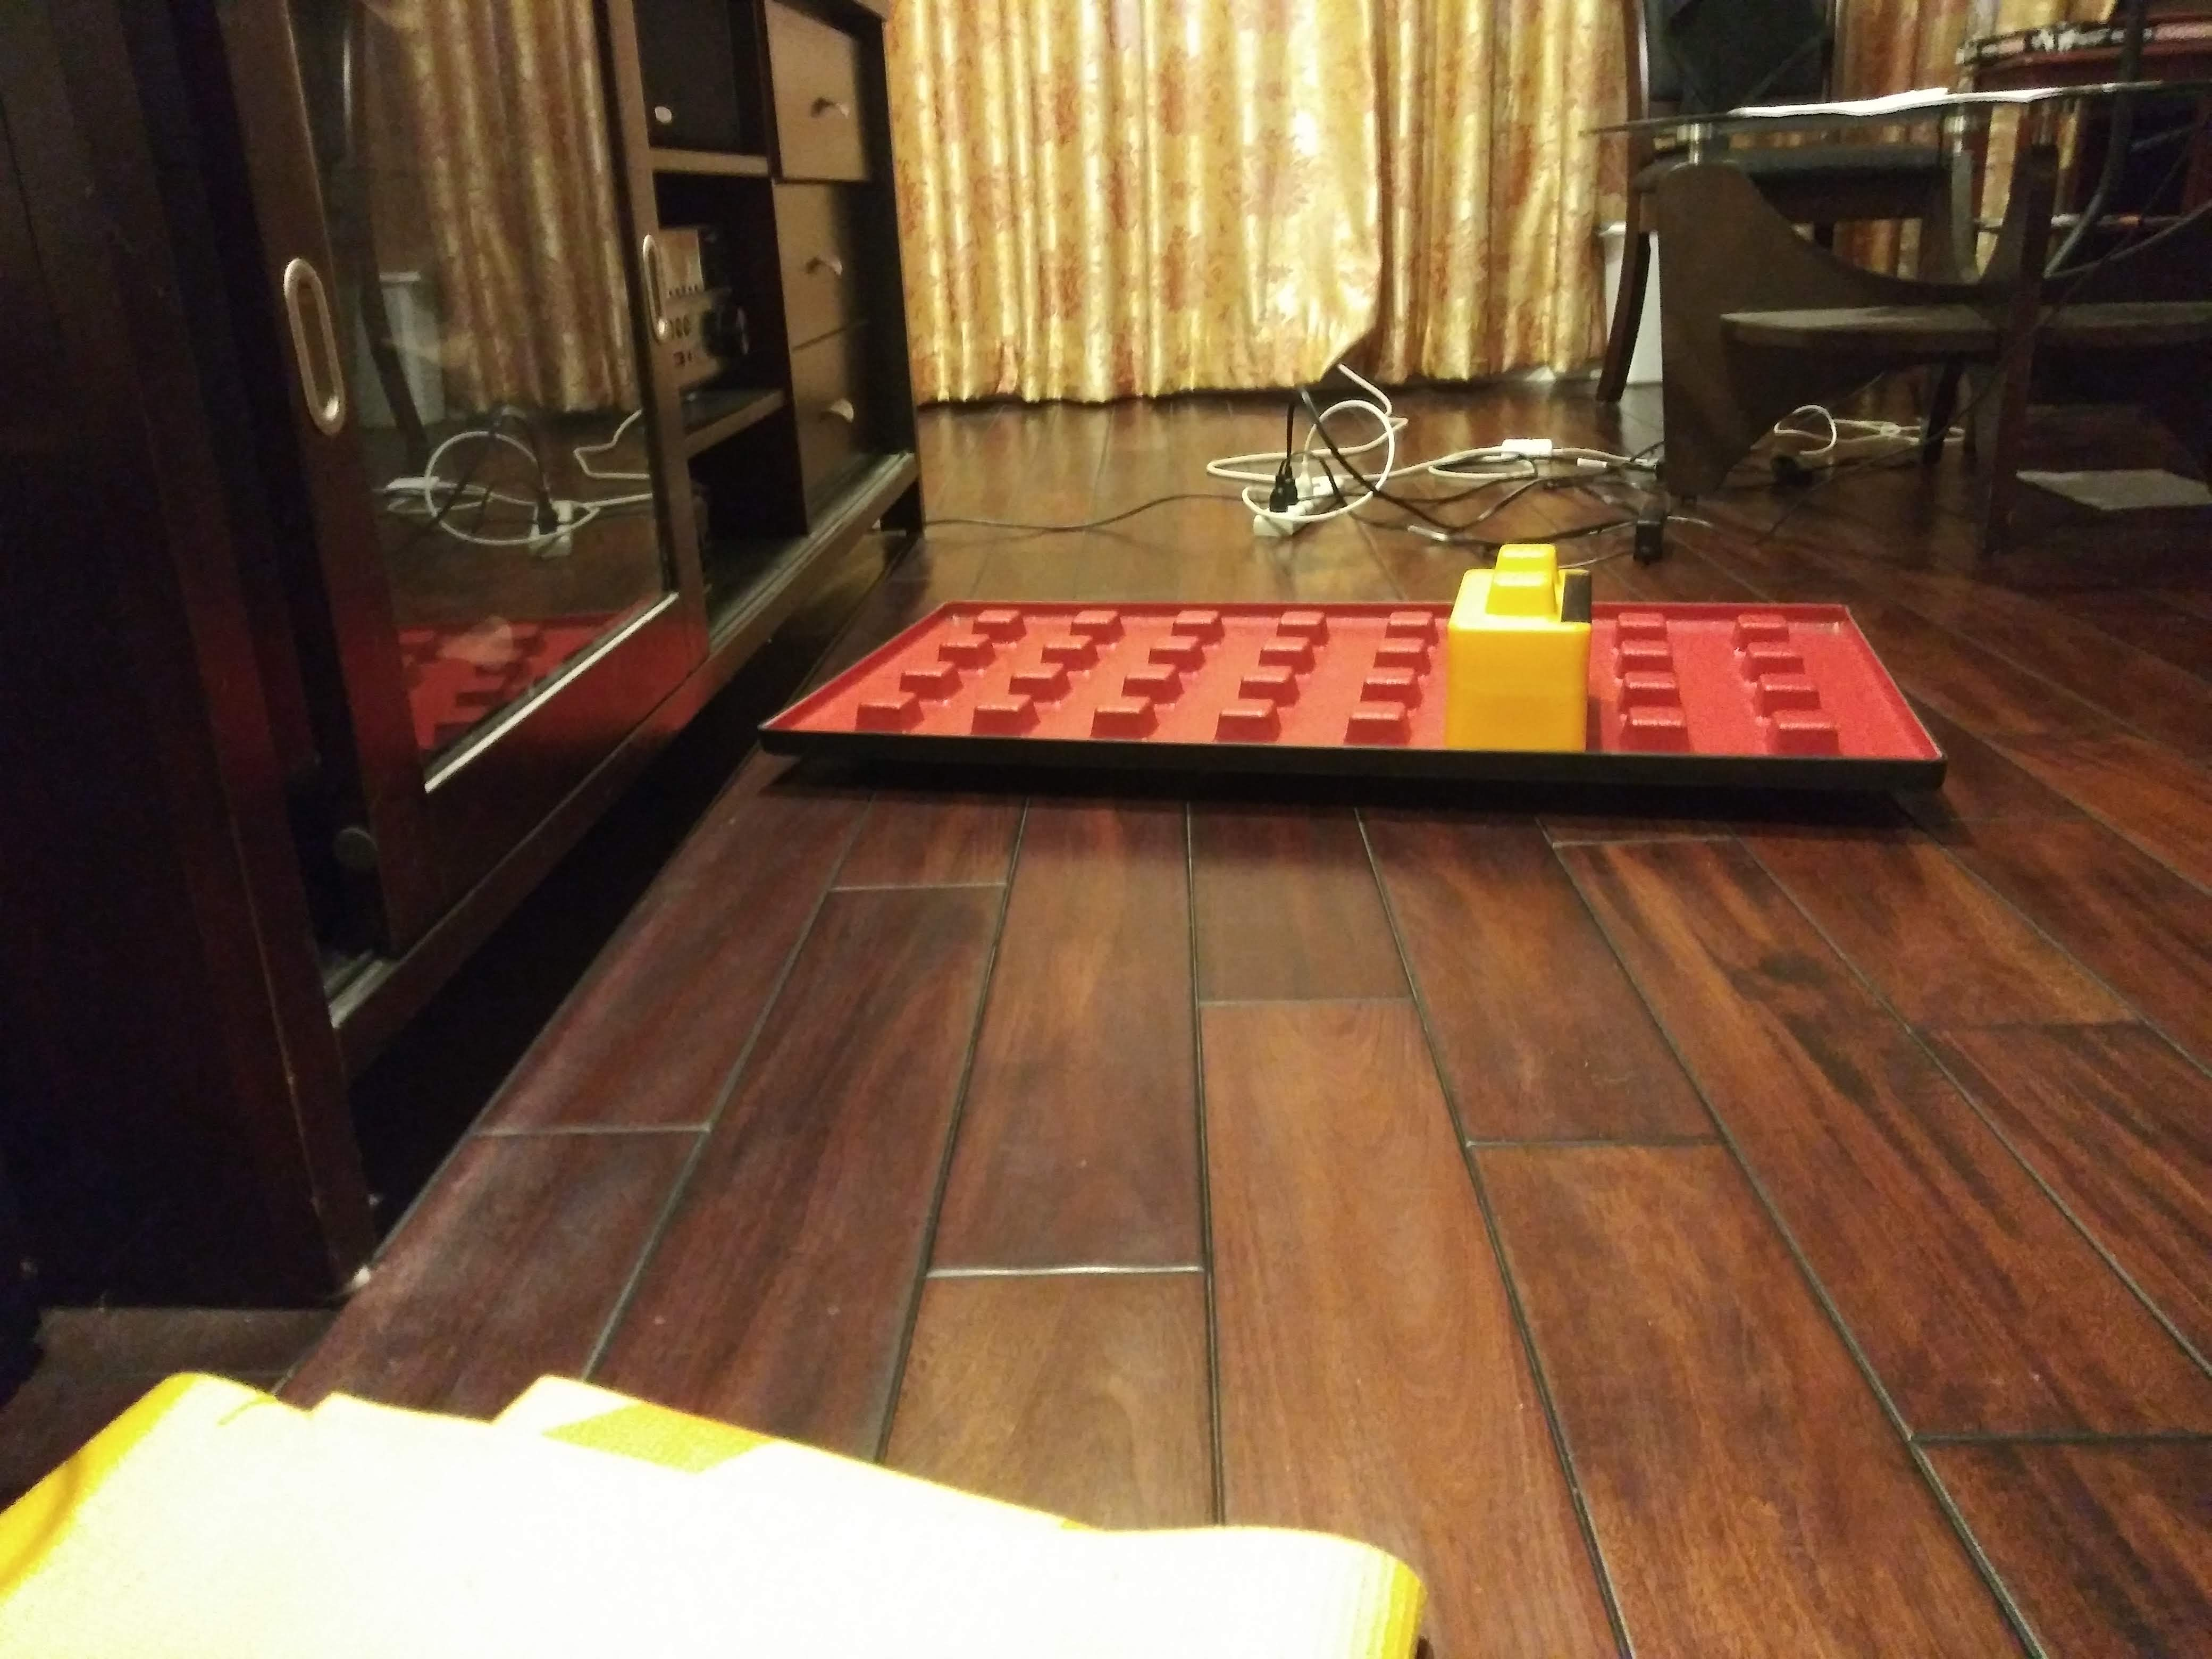red foundation: (742, 542, 1961, 807)
